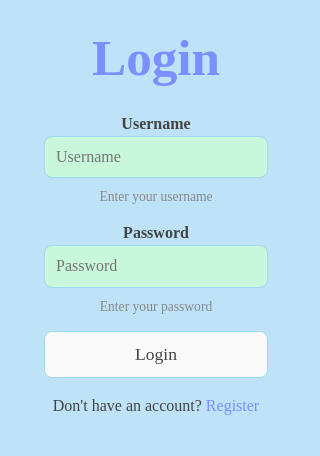
Shows error for invalid login
Type "wronguser" into the field with placeholder "Username".
click(156, 157); type("wronguser")  # box [44,136,268,178]
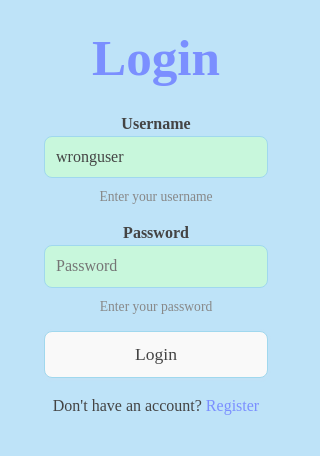
Type "wrongpass" into the password field with placeholder "Password".
click(156, 266); type("wrongpass")  # box [44,245,268,288]
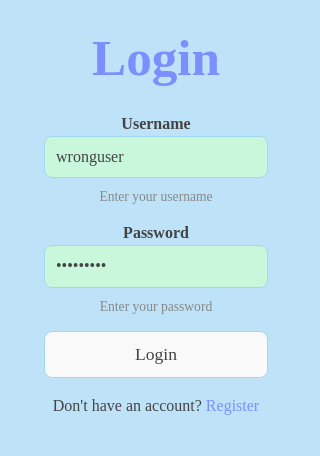
Click the button "Login".
click(156, 355)  # box [44,331,268,378]
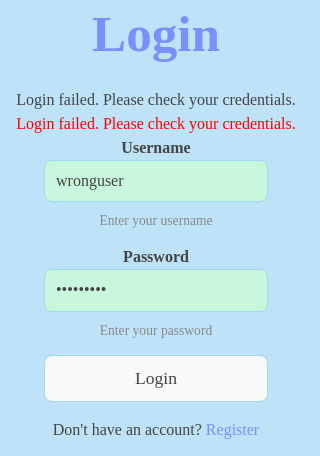
Check: the 1st text "Login failed. Please check your credentials." is shown, box [16,88,296,112]
